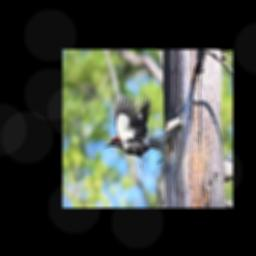Woodpecker: (103, 94, 168, 170)
